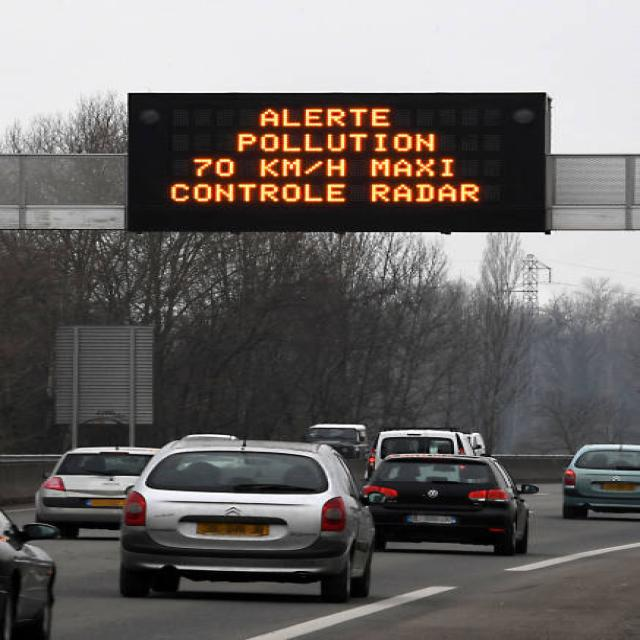Billboard_LHS: (51, 305, 181, 439)
Billboard_overhead: (103, 86, 576, 250)
Roadlane: (232, 526, 639, 639)
